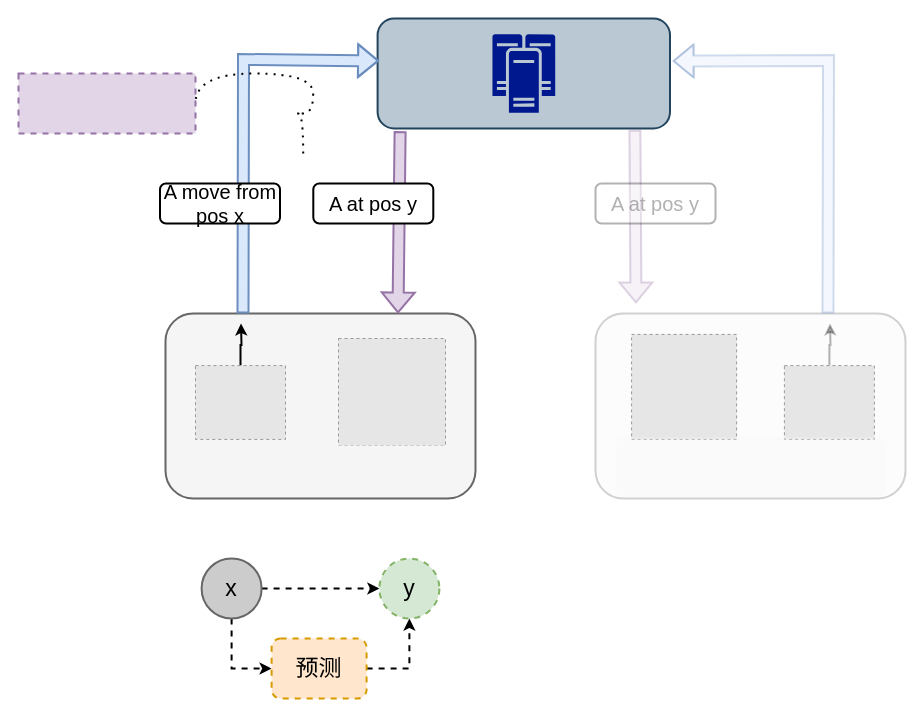
This 923x716 diagram has some shape labels left out. Grey dashed boxes stand in for pictures. Here are the shapes that lost their labels. From the top down, the box of each, then its label:
(17, 72, 196, 134): cost time = 100ms
(188, 445, 458, 488): Player A
(615, 436, 885, 496): Player B
